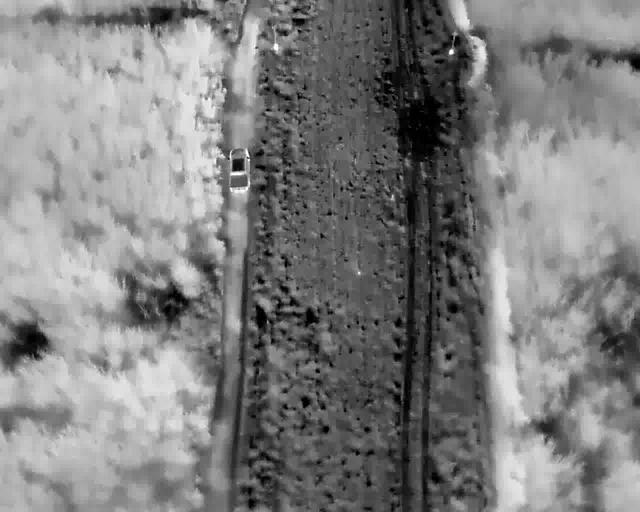car: (226, 147, 250, 192)
